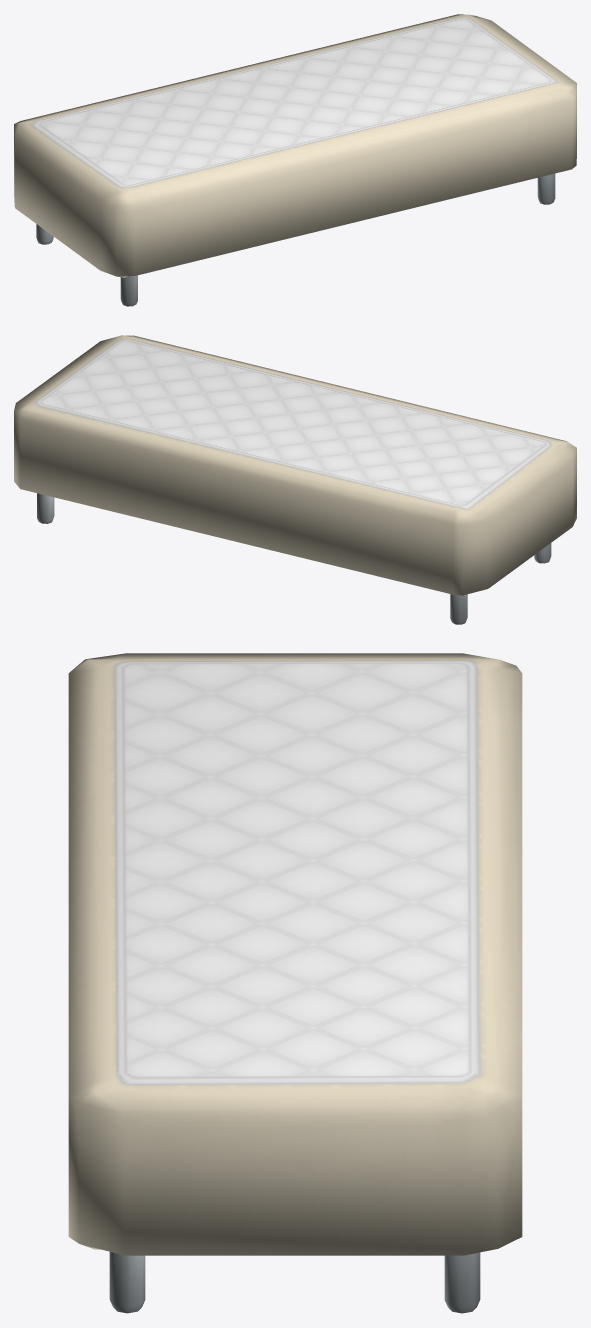
Rendered from bed.FBX.
3 views of the same model, one above another, from view 1: azimuth 30°, elevation 25°; view 2: azimuth 150°, elevation 25°; view 3: azimuth 270°, elevation 25° (orthographic). The views are drawn at different scales.
Visible parts, largest first — view 1: s10; view 2: s10; view 3: s10.
Part boxes in pixels (bbox=[...]): s10: bbox=[14, 14, 576, 306]; s10: bbox=[14, 335, 576, 624]; s10: bbox=[68, 653, 522, 1313].
Size of the model in its own units: 0.0513 by 0.0213 by 0.0122.
